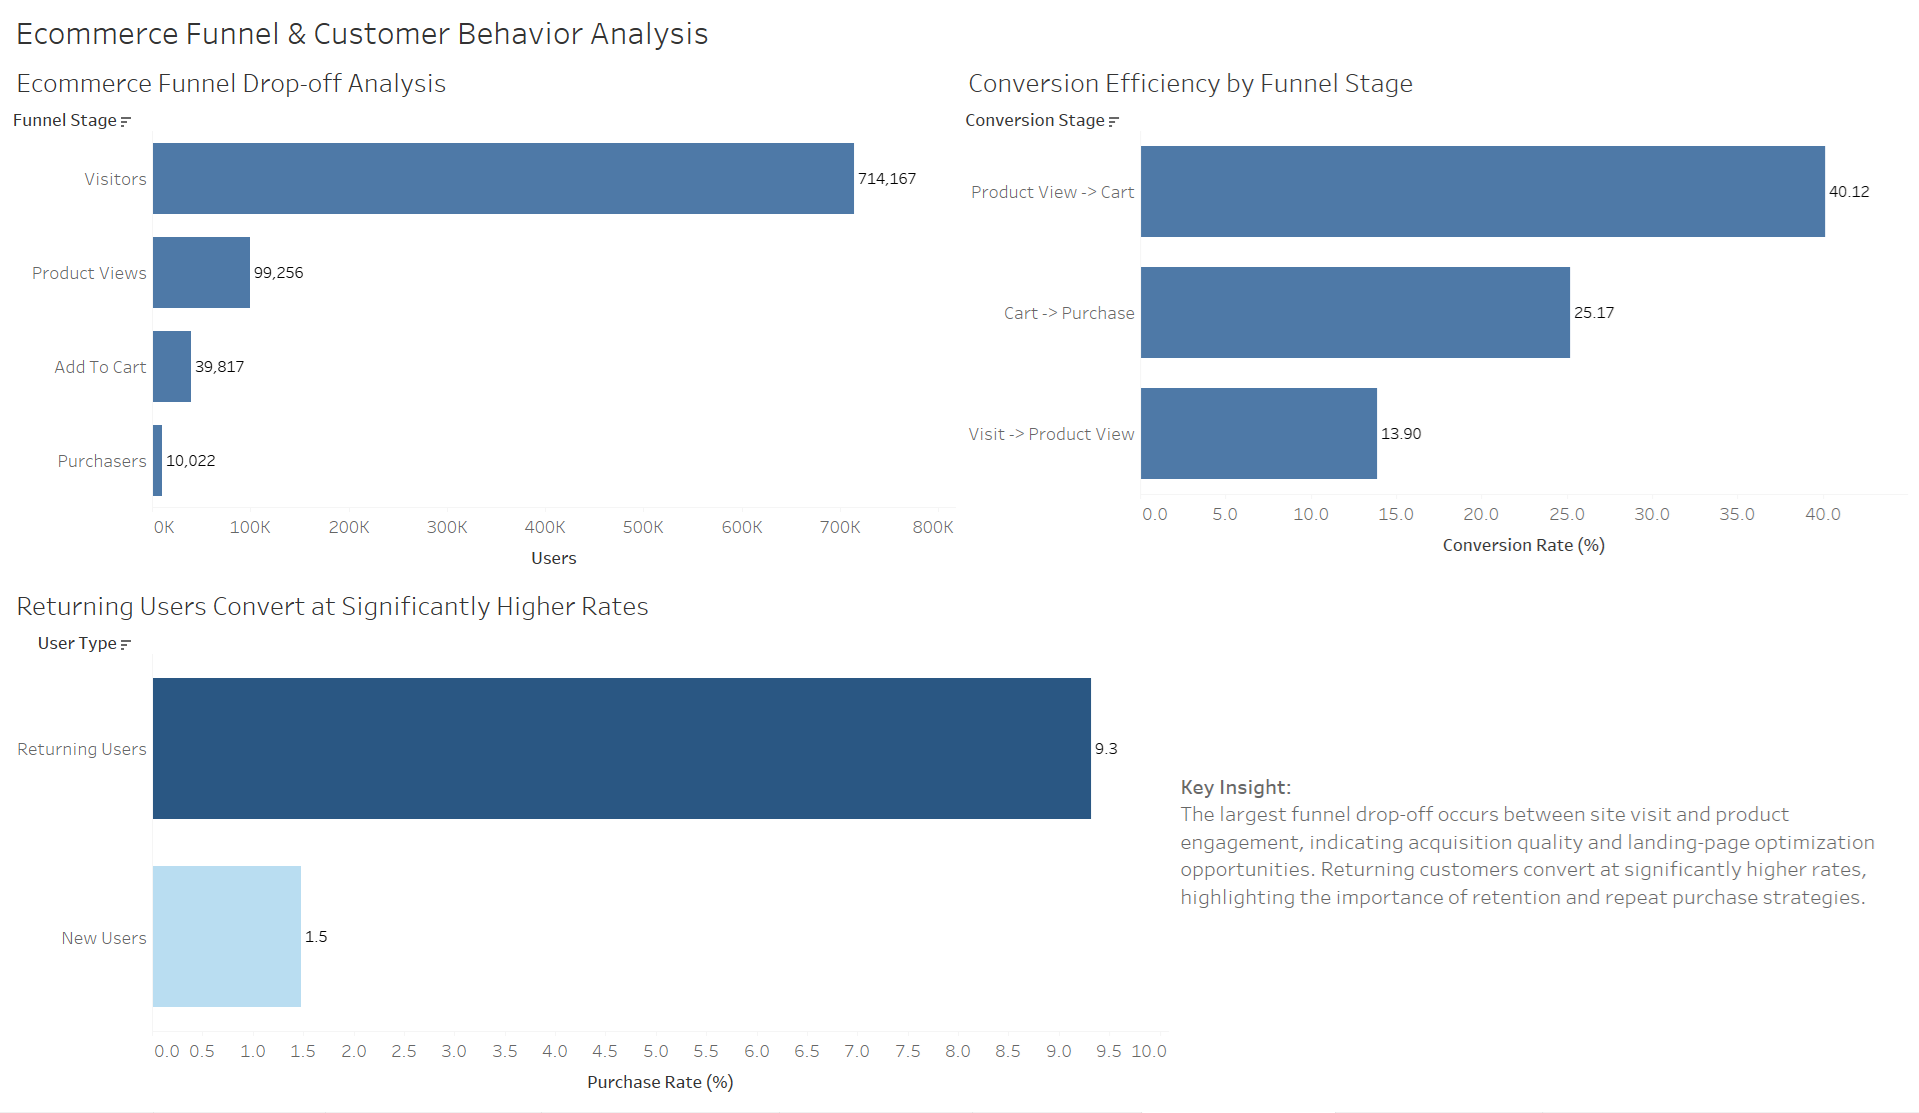

What the dashboard file says about the page in this screenshot:
{"tool":"tableau","page":{"name":"01_Funnel_Dashboard","canvas":[1000,1000],"units":"permille","ordinal":0},"visuals":[{"type":"title","box":[4.8,8.7,990.3,54.3]},{"type":"worksheet","title":"01_Funnel_Dropoff","mark":"Automatic","rows":["Pivot Field Names"],"cols":["Pivot Field Values"],"box":[4.8,63,495.2,464.1]},{"type":"worksheet","title":"02_Conversion_Rates","mark":"Automatic","rows":["Pivot Field Names"],"cols":["Pivot Field Values"],"box":[500,63,495.2,464.1]},{"type":"worksheet","title":"05_Customer_Segments","mark":"Automatic","rows":["user_type"],"cols":["purchase_rate_pct"],"box":[4.8,527.1,605.9,464.2]},{"type":"text","box":[610.7,527.1,384.4,464.2]}]}

Visuals, with their boxes on the dashboard's canvas, which has no fixed pixel size, in thousandths of its width and height (x1, y1, x2, y2). These are canvas units, not pixel positions in the 1919x1113 screenshot, which may show the page scaled, cropped or inside an application window:
title: 5/9/995/63
"01_Funnel_Dropoff" worksheet: 5/63/500/527
"02_Conversion_Rates" worksheet: 500/63/995/527
"05_Customer_Segments" worksheet: 5/527/611/991
text: 611/527/995/991
